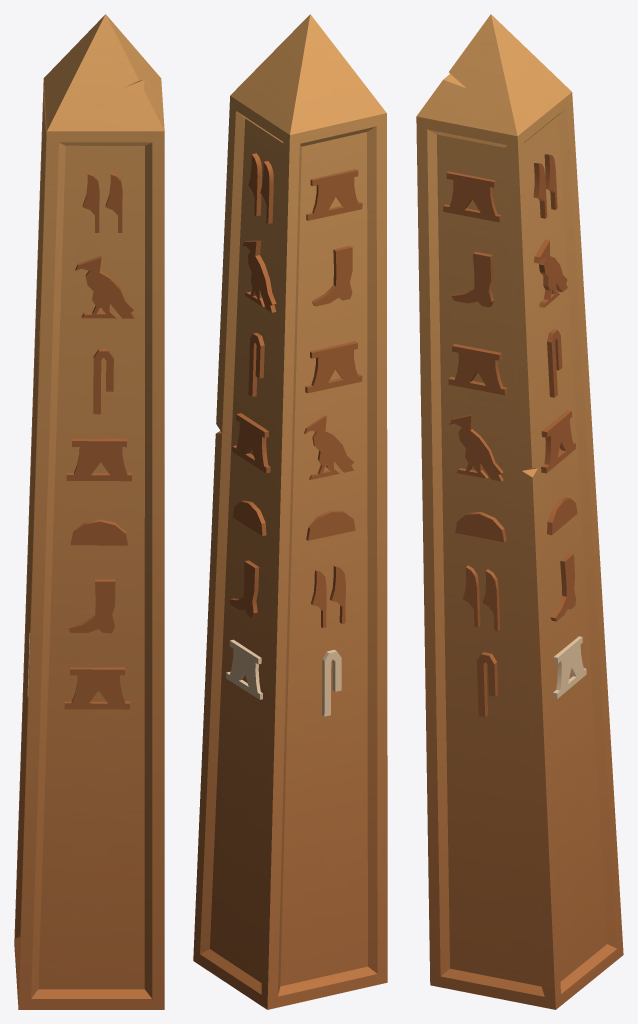
The picture shows the model from 3 angles, left to right: view 1: azimuth 30°, elevation 25°; view 2: azimuth 150°, elevation 25°; view 3: azimuth 270°, elevation 25°; orthographic projection. The views are drawn at different scales.
Visible parts, largest first — view 1: diorama.006; view 2: diorama.006; view 3: diorama.006.
Part boxes in pixels (box(x1,y1,x2,y2)): diorama.006: box(14, 14, 164, 1009); diorama.006: box(193, 14, 387, 1009); diorama.006: box(416, 14, 623, 1009).
Size of the model in its own units: 56.95 by 311 by 60.98.
